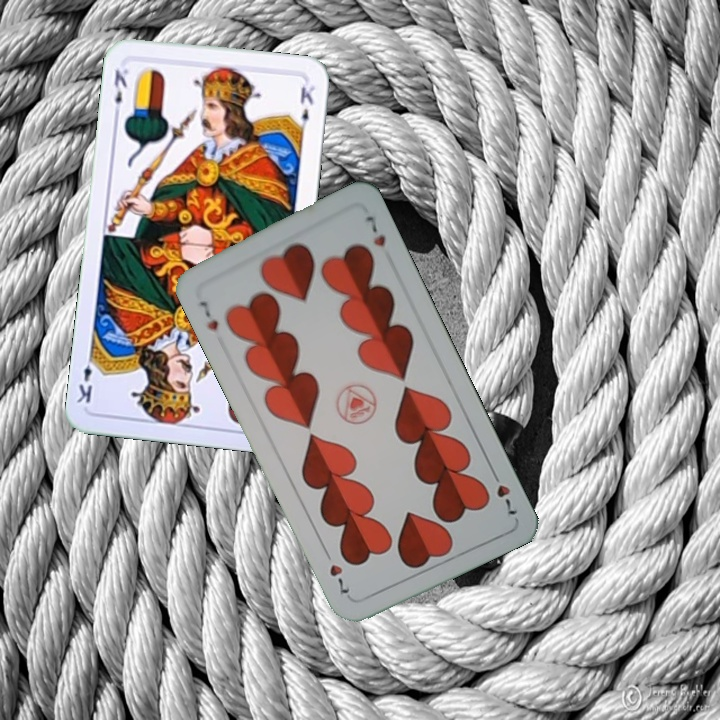EK: (110, 64, 130, 119)
H7: (486, 465, 520, 518), (195, 297, 221, 333)
